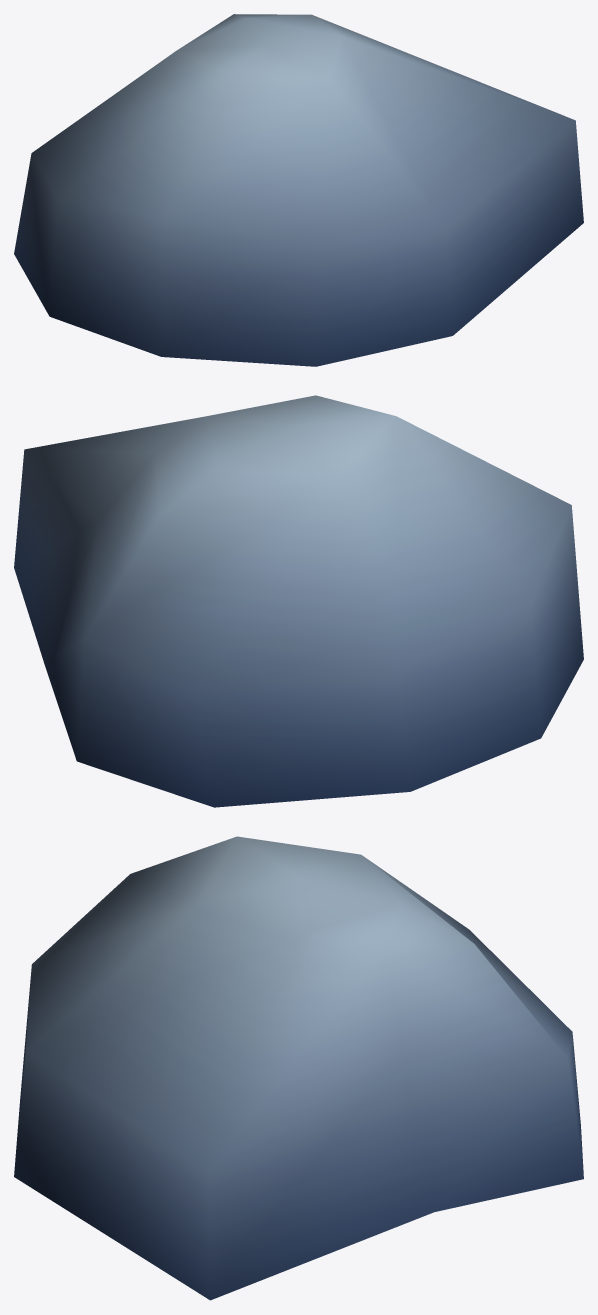
File: boulder6.fbx
The picture shows the model from 3 angles, top to bottom: view 1: azimuth 30°, elevation 25°; view 2: azimuth 150°, elevation 25°; view 3: azimuth 270°, elevation 25°; orthographic projection. The views are drawn at different scales.
Visible parts, largest first — view 1: boulder6; view 2: boulder6; view 3: boulder6.
Boxes of the visible parts, x1,y1,x2,y2 form: boulder6: (14,14,583,366); boulder6: (14,395,583,807); boulder6: (14,836,583,1300).
Bounding box in the file's own units: 0.0256 × 0.0117 × 0.0215.
Materials: 1 (1 with a texture image).
